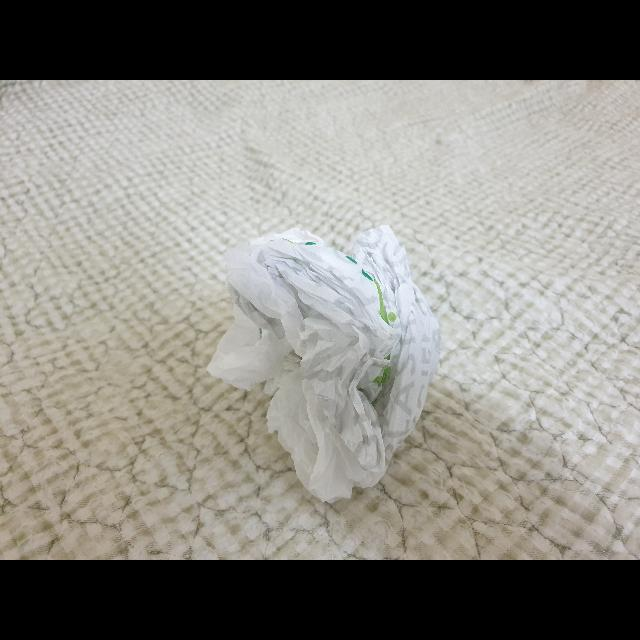plastic_bag: (200, 218, 452, 508)
